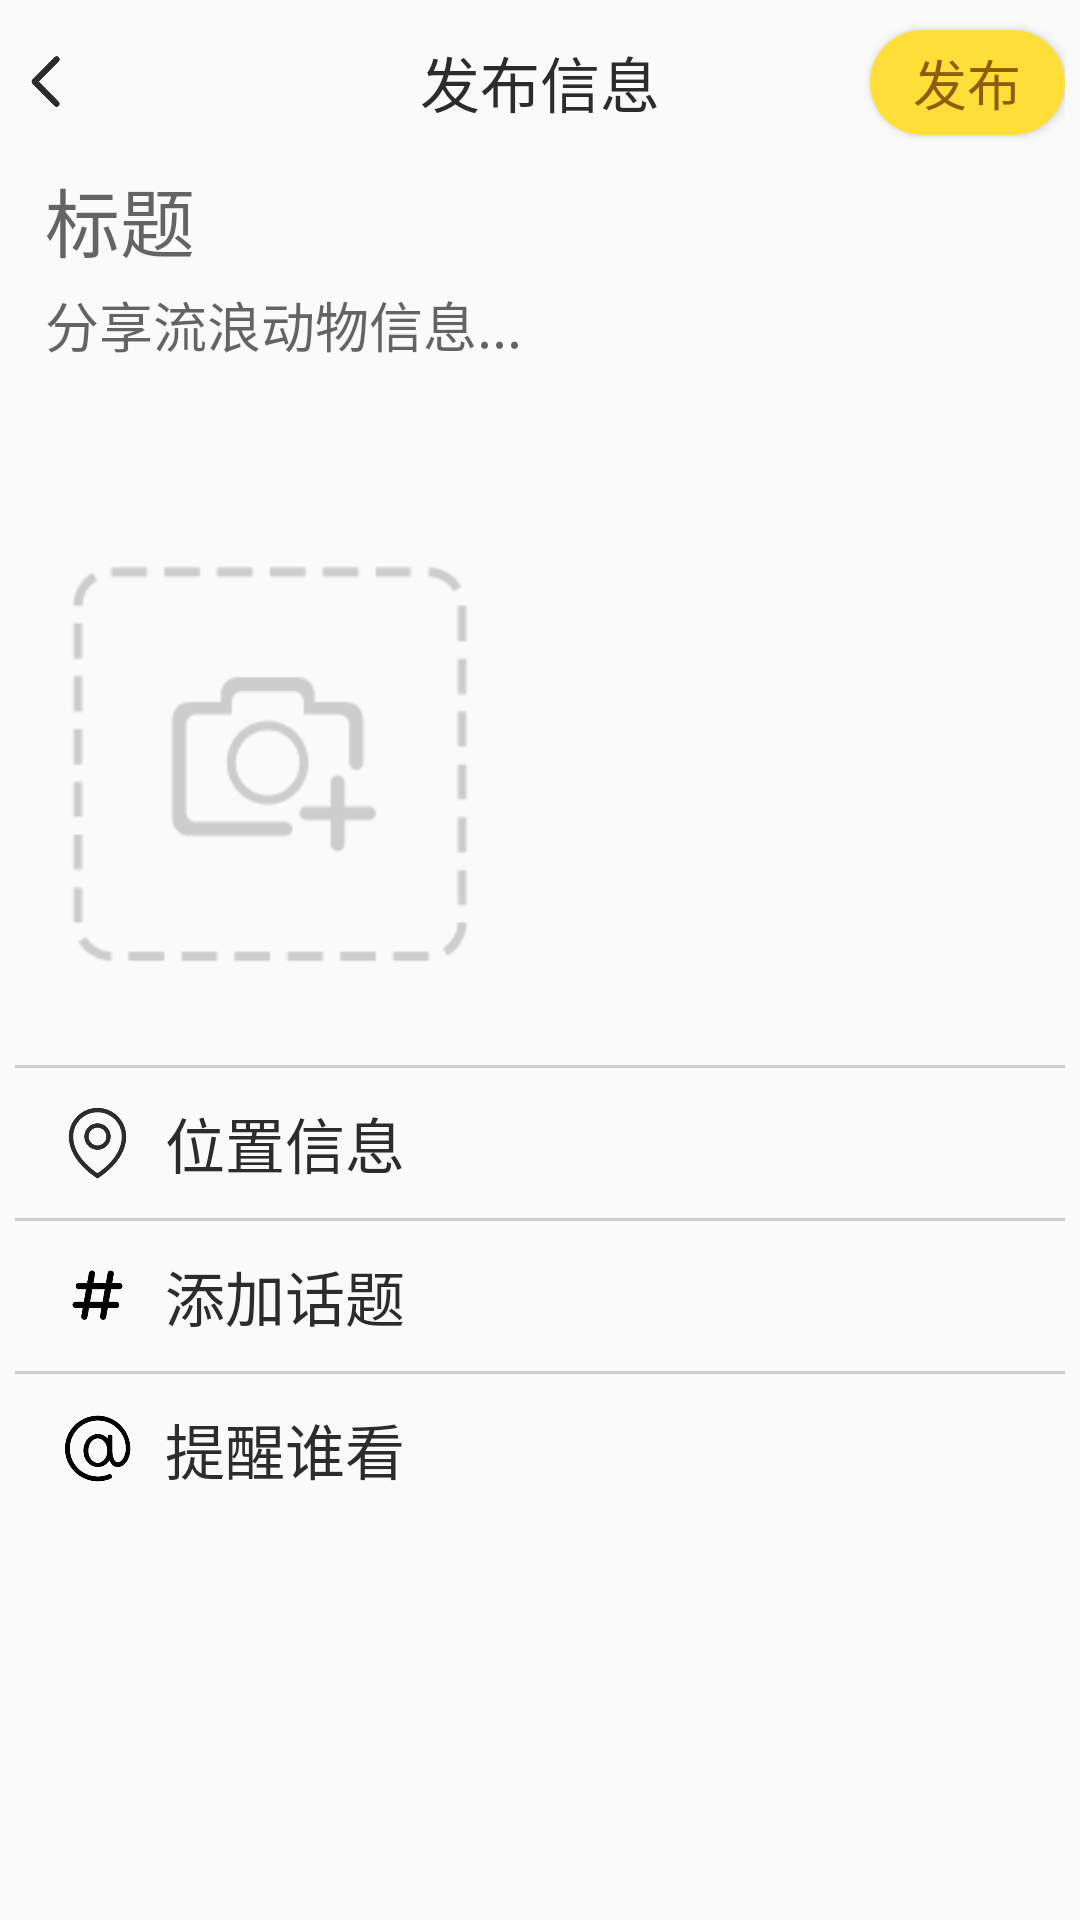

Named icons in this screenshot (1080px x 1920px) and their bounding boxes, [left=x1, top=y1, right=x2, bottom=y2]:
back: [left=31, top=56, right=60, bottom=107]
position: [left=69, top=1108, right=126, bottom=1179]
reminder: [left=65, top=1415, right=131, bottom=1482]
topic: [left=72, top=1270, right=123, bottom=1320]
